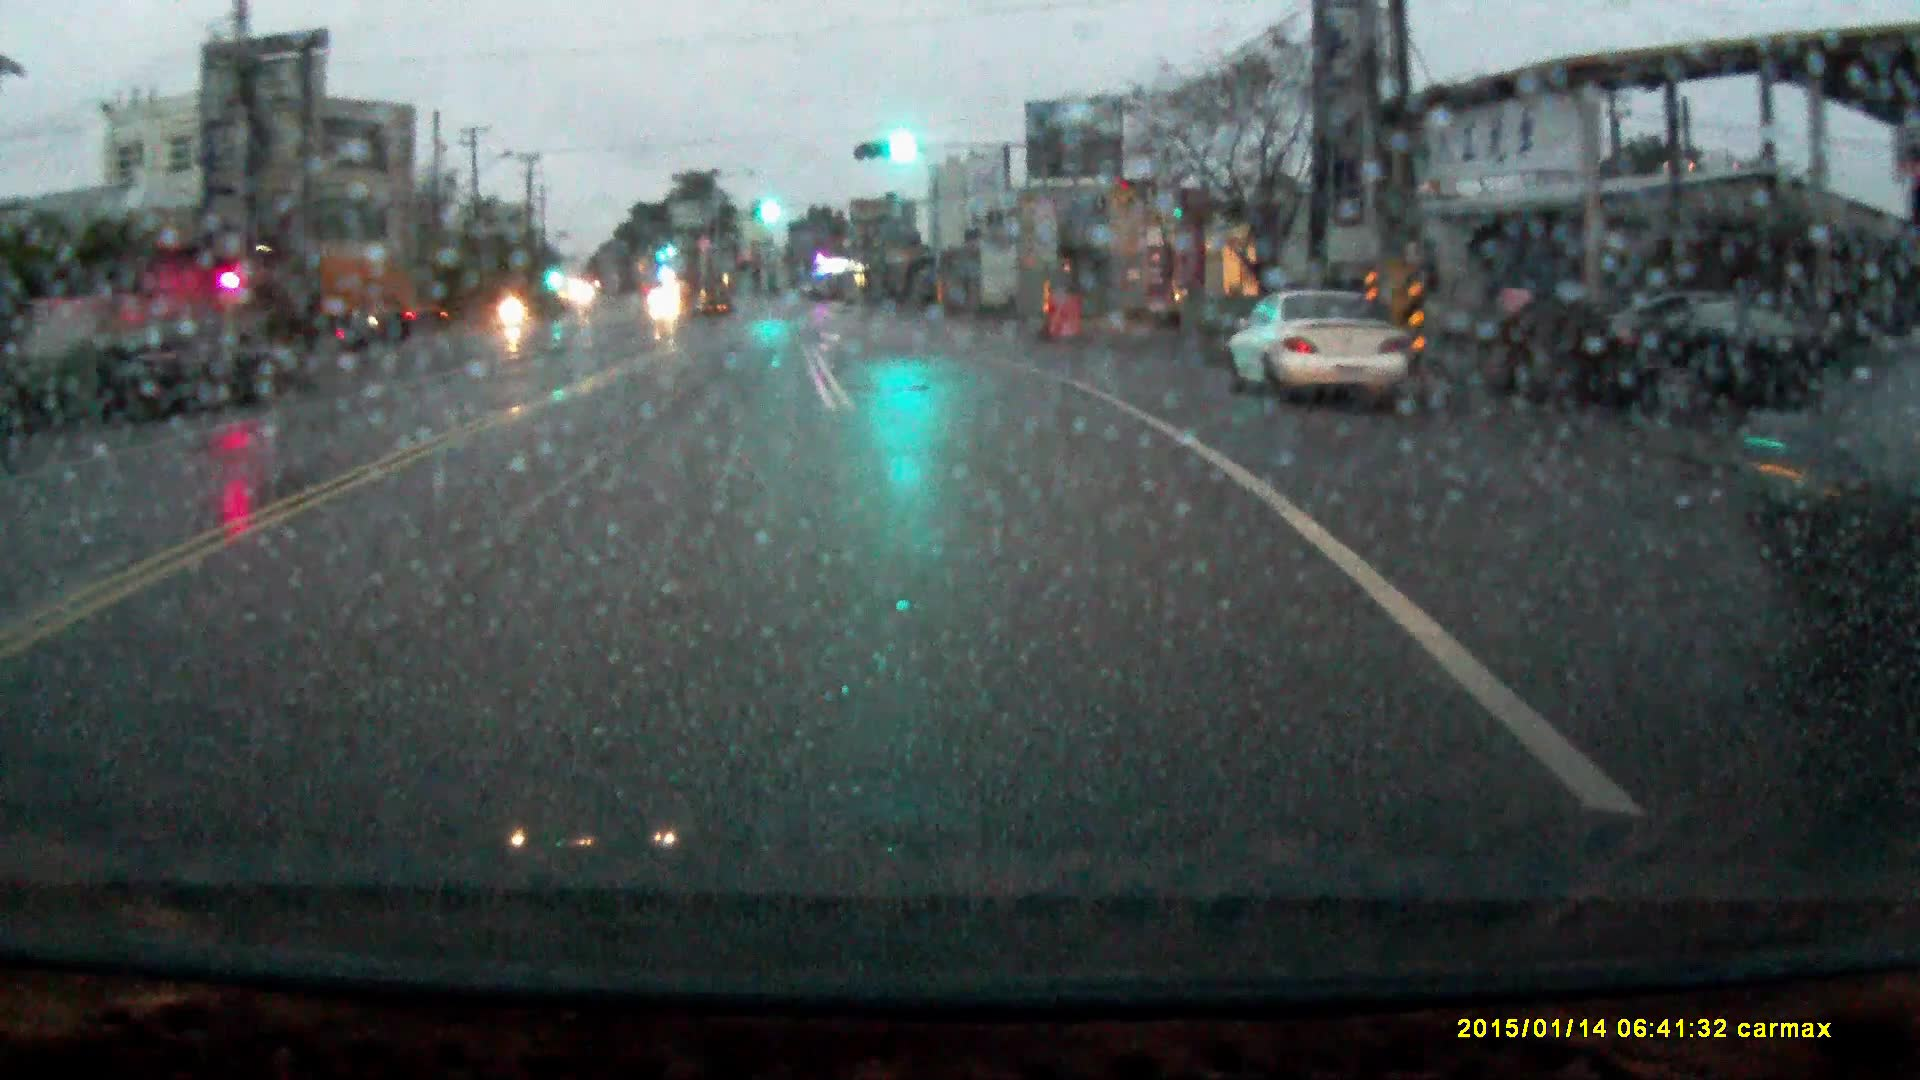rider: (495, 277, 528, 333)
vehicle: (1222, 289, 1406, 405), (272, 235, 447, 338), (85, 322, 263, 422), (650, 286, 680, 311)
